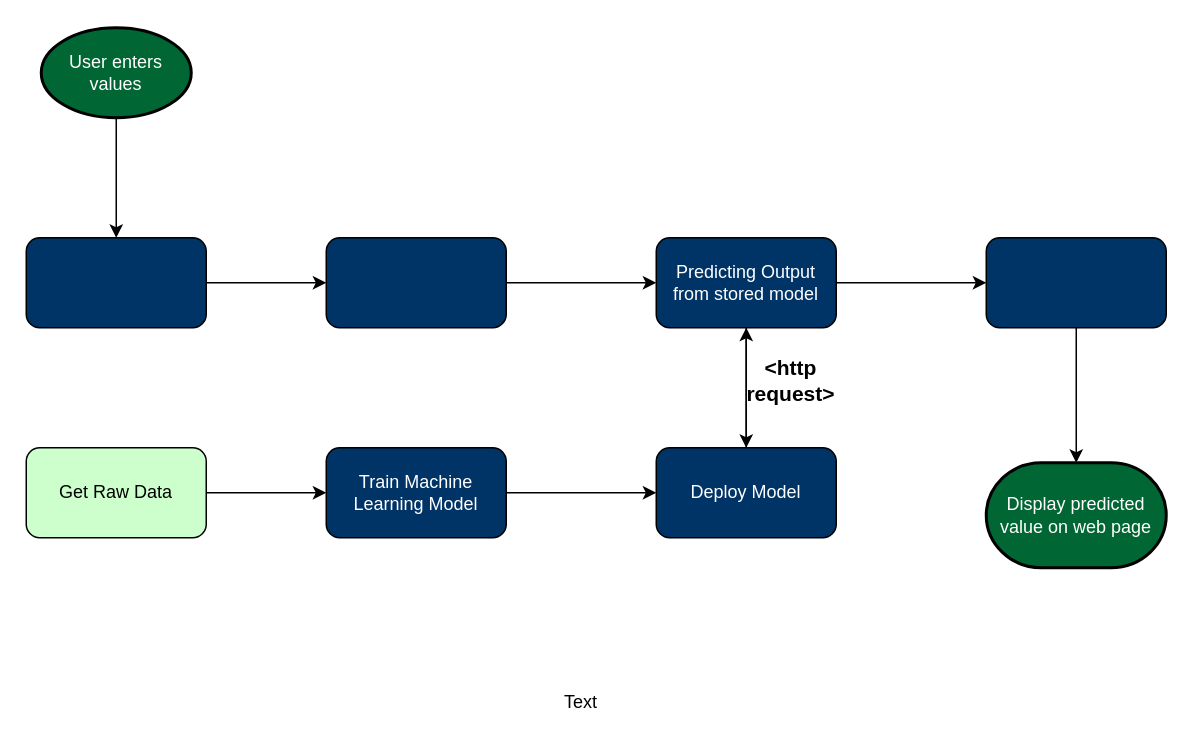
Image size: 1194x743. Some labels were removed from this diagram. Here are the shapes that lost their labels. From the top down, the centre of each, then its label:
At (x=115, y=282): "Values from Node Red".
At (x=415, y=282): "Node Red pass the data to Machine Learning Service".
At (x=1075, y=282): "Pass predicted values to Node Red".
